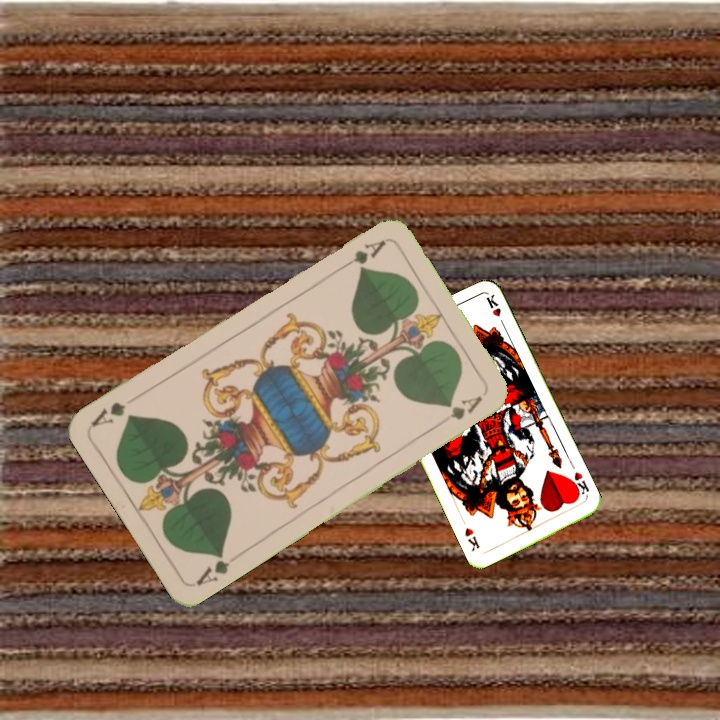GA: (334, 236, 388, 274), (192, 547, 233, 588)
HK: (566, 468, 592, 501)
